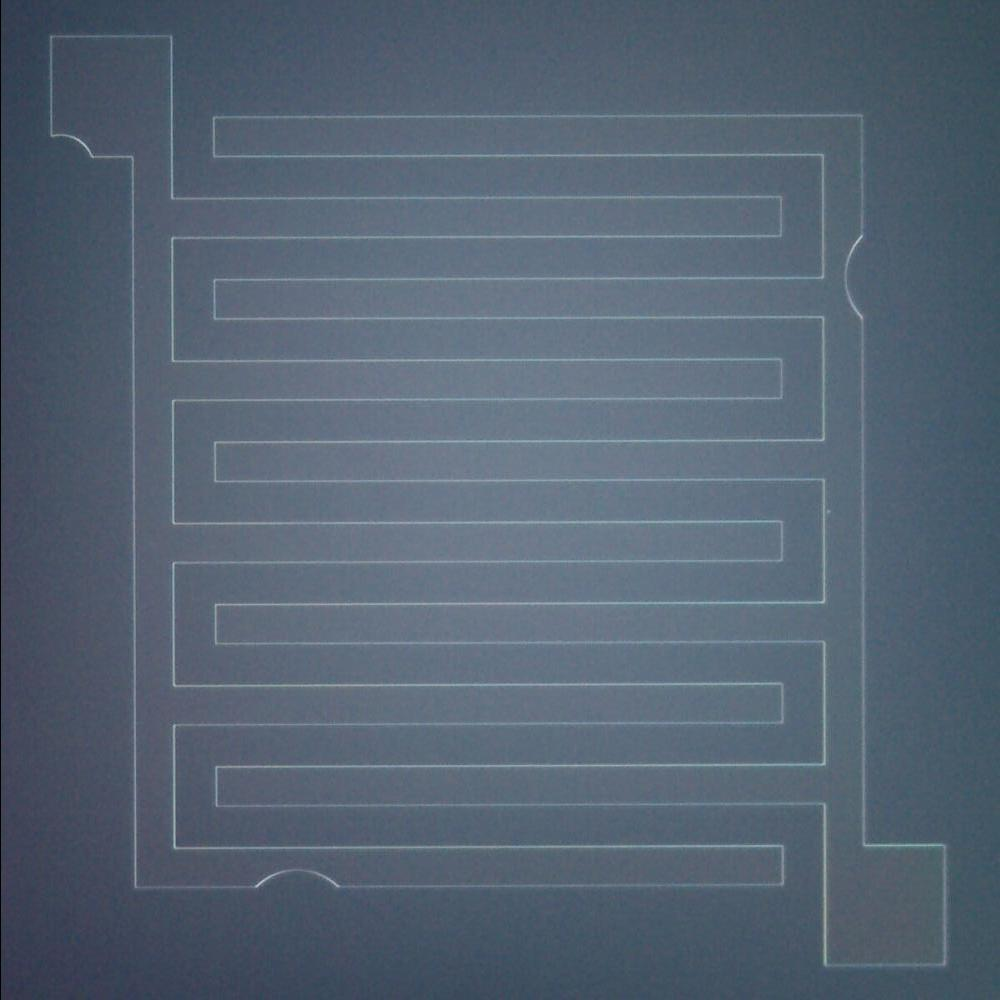curve circuit: (238, 862, 348, 907), (834, 223, 877, 336), (38, 118, 108, 174)
